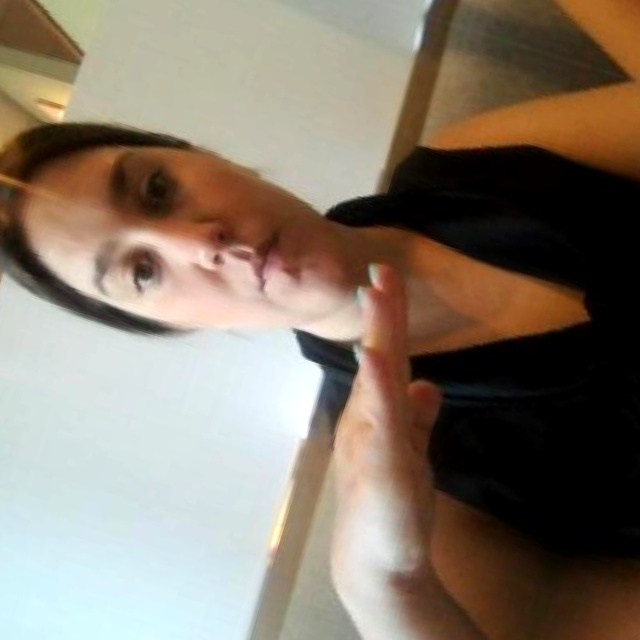Paper: (273, 243, 513, 602)
